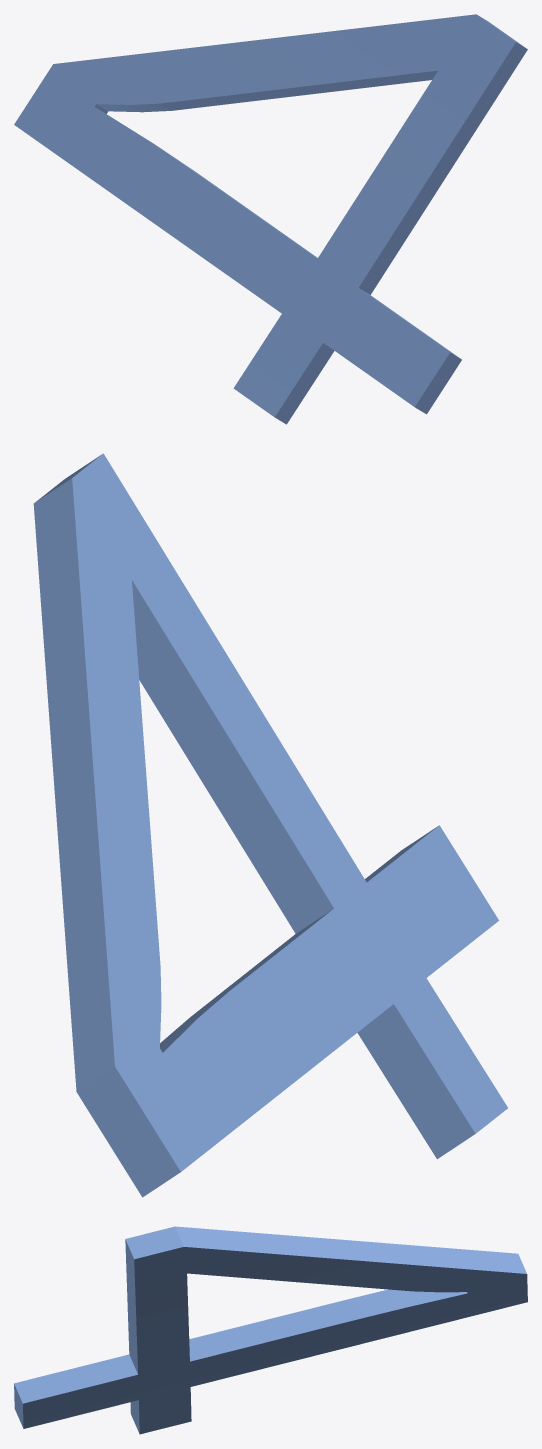
File: New_Number_4.gltf
3 views of the same model, one above another, from view 1: azimuth 30°, elevation 25°; view 2: azimuth 150°, elevation 25°; view 3: azimuth 270°, elevation 25° (orthographic). The views are drawn at different scales.
Visible parts, largest first — view 1: Part 598; view 2: Part 598; view 3: Part 598.
Boxes of the visible parts, left/top/right/bottom form: Part 598: left=14, top=14, right=527, bottom=424; Part 598: left=33, top=453, right=507, bottom=1197; Part 598: left=14, top=1226, right=527, bottom=1434.
Size of the model in its own units: 0.00307 by 0.00347 by 0.00545.
